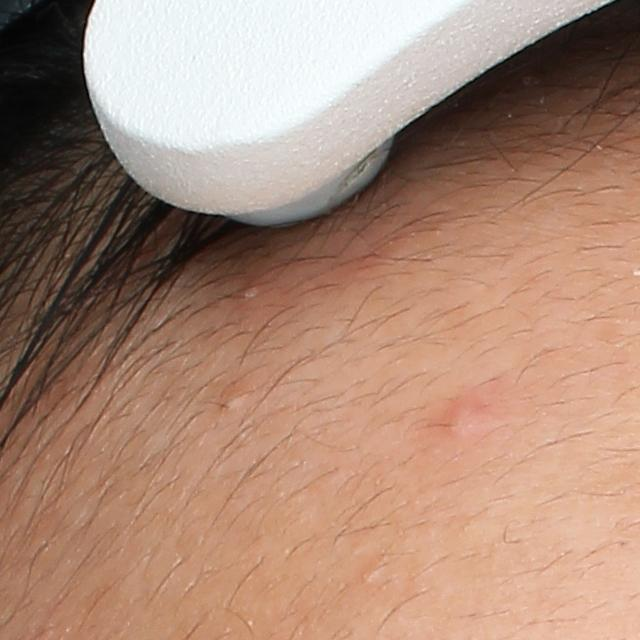papule: (423, 386, 494, 450)
